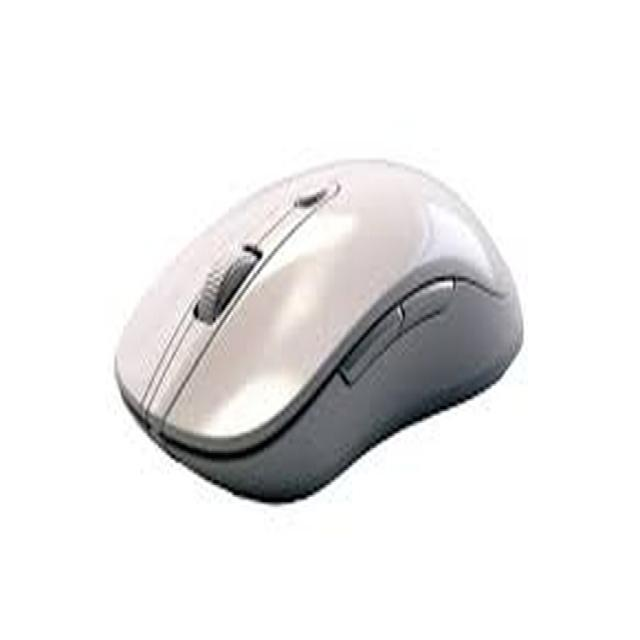mouse: (112, 147, 537, 507)
